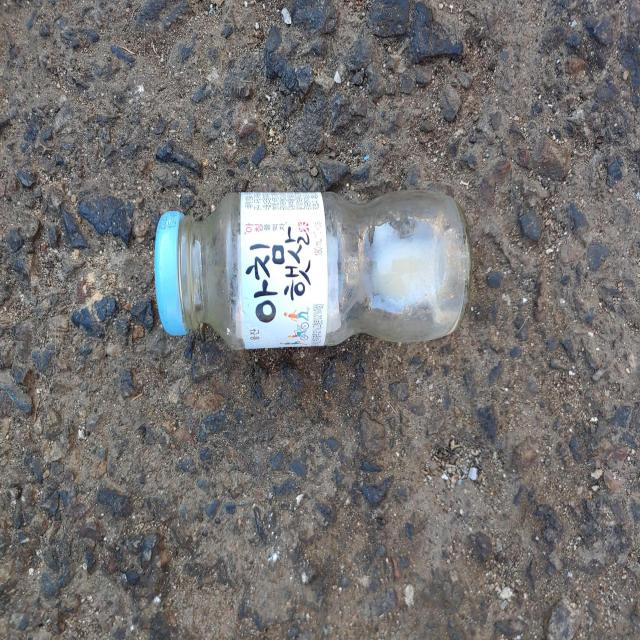glass: (154, 191, 471, 349)
